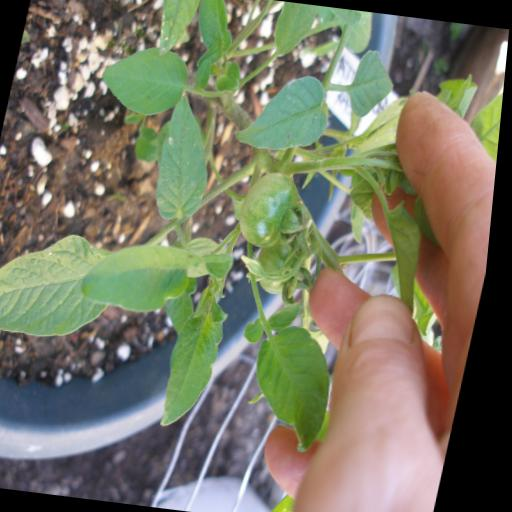Healthy: (0, 220, 129, 347), (246, 320, 351, 452), (240, 57, 342, 174), (80, 236, 201, 319), (163, 300, 236, 432), (94, 42, 200, 122), (180, 0, 248, 82)
